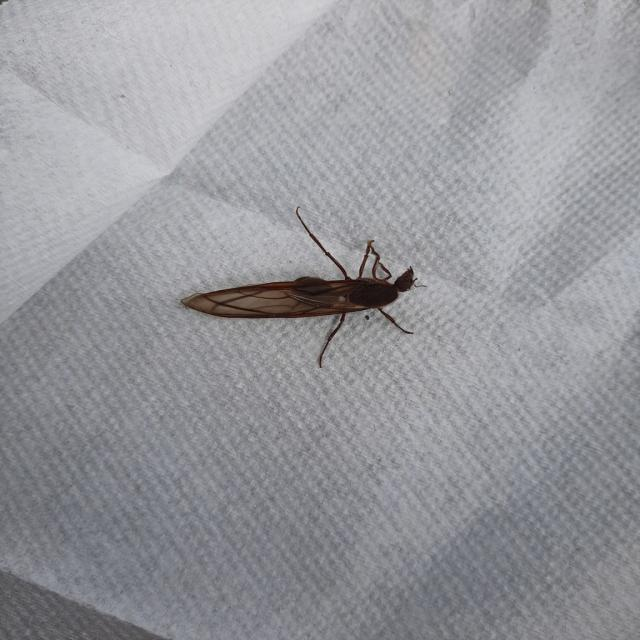Alive-Female-Alate: (180, 206, 428, 369)
